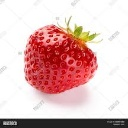strawberry: (23, 20, 99, 94)
